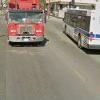Bus: (60, 5, 100, 53)
